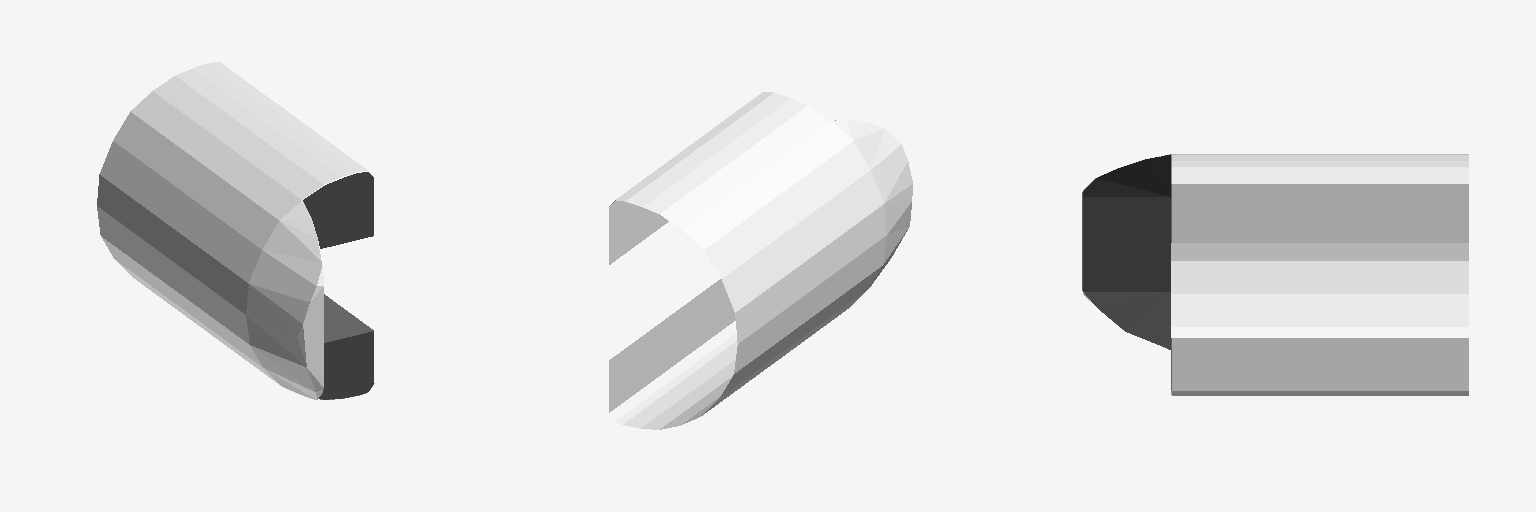
3 views of the same model, side by side, from view 1: azimuth 30°, elevation 25°; view 2: azimuth 150°, elevation 25°; view 3: azimuth 270°, elevation 25° (orthographic).
Bounding box in the file's own units: 0.2173 × 0.3615 × 0.5778.
2 materials, 2 textured.